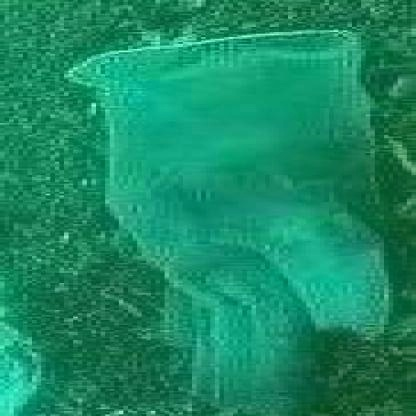glove: (55, 26, 411, 414)
